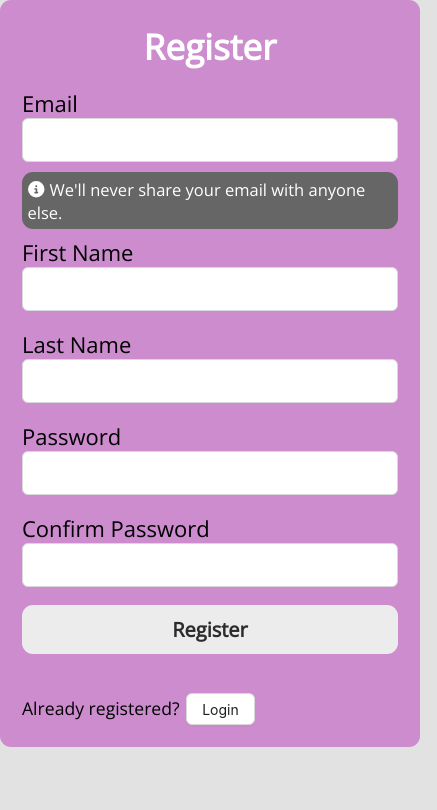
Test: Register › handles form submission with invalid email format
Type "invalid_email" into the field labelled "Email".
click(210, 140); type("invalid_email")  # box [22,118,398,162]
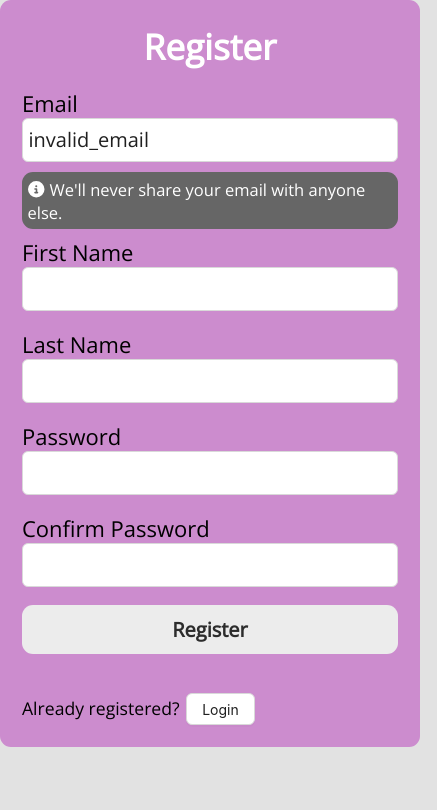
Submit the form from the button "Register", box [22,605,398,654]
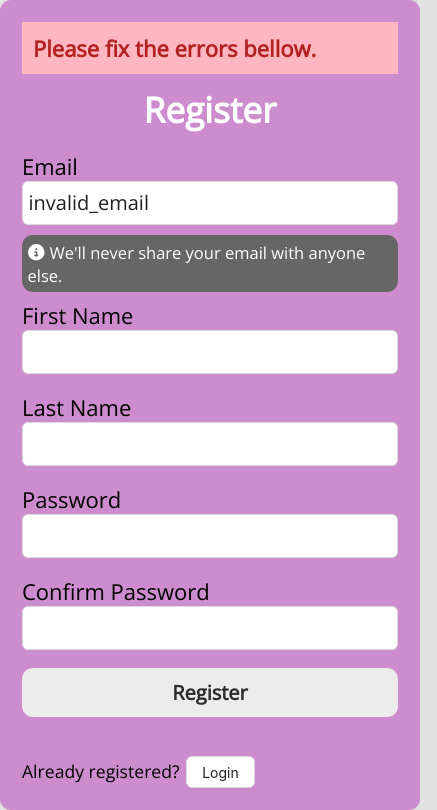
Result: the text "Please fix the errors bellow." is shown at [22,22,398,74]
